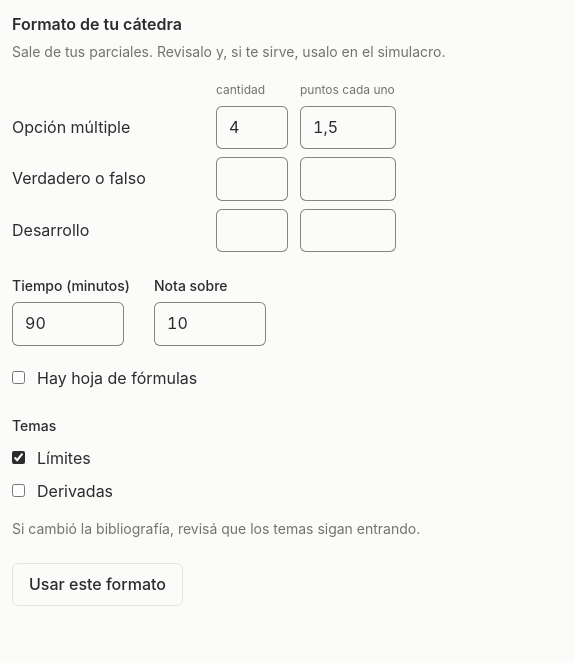
Test: Formato de la cátedra › un número fuera de rango se dice tranquilo, sin guardar
This screenshot has width=575, height=663.
Click the button "Usar este formato": (97, 585) [12,563,183,606]
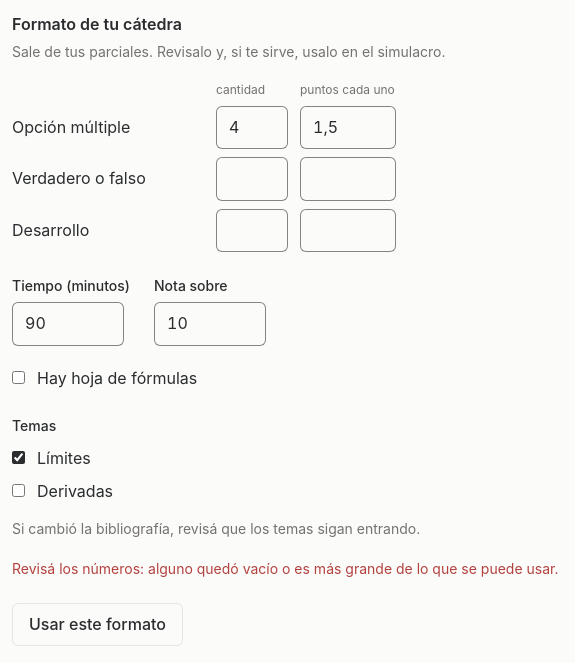
Expected: the message does not show "Input should", [12,560,558,577]
Expected: the message shows "Revisá los números", [12,560,558,577]
